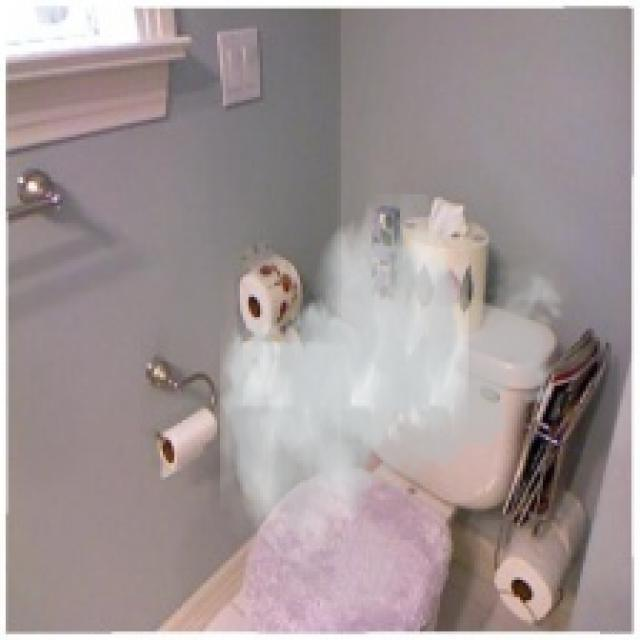Smoke: (220, 194, 574, 557)
